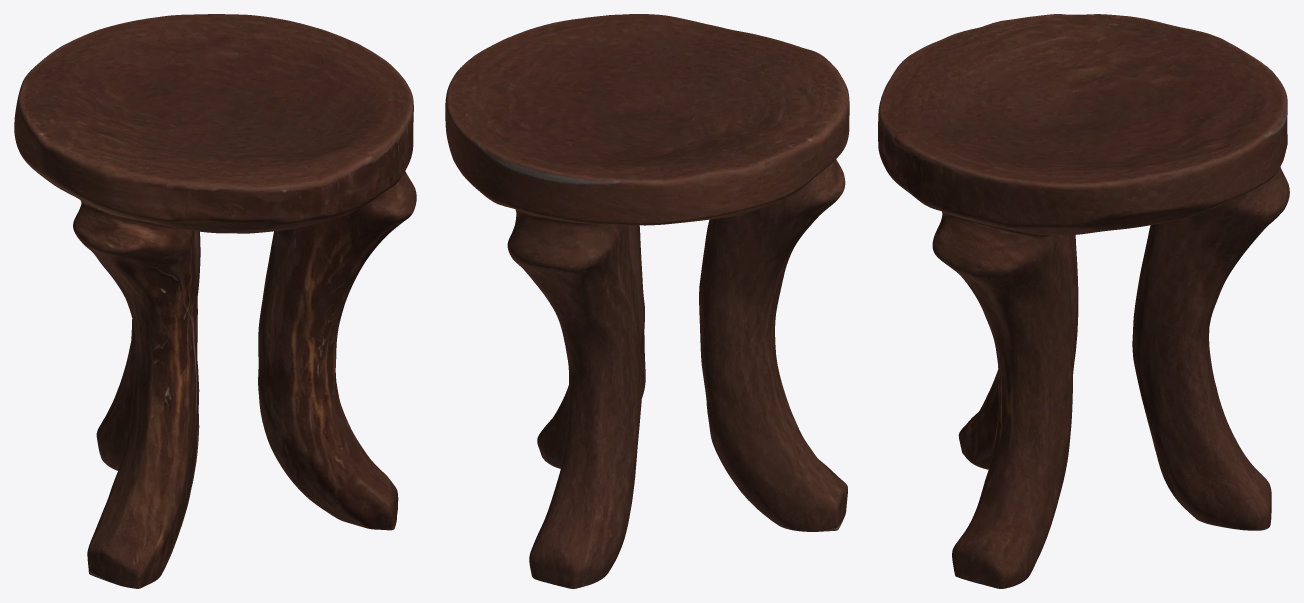
File: wooden_stool.glb
The picture shows the model from 3 angles, left to right: view 1: azimuth 30°, elevation 25°; view 2: azimuth 150°, elevation 25°; view 3: azimuth 270°, elevation 25°; orthographic projection.
Parts seen in each view (by area): view 1: Meshy_AI_Rustic_Three_Legged_W_0919180511_texture; view 2: Meshy_AI_Rustic_Three_Legged_W_0919180511_texture; view 3: Meshy_AI_Rustic_Three_Legged_W_0919180511_texture.
Boxes of the visible parts, bbox=[...] form: Meshy_AI_Rustic_Three_Legged_W_0919180511_texture: bbox=[14, 14, 416, 588]; Meshy_AI_Rustic_Three_Legged_W_0919180511_texture: bbox=[445, 14, 849, 588]; Meshy_AI_Rustic_Three_Legged_W_0919180511_texture: bbox=[878, 14, 1289, 588].
Bounding box in the file's own units: 1.65 × 1.9 × 1.68.
1 material, 1 textured.
